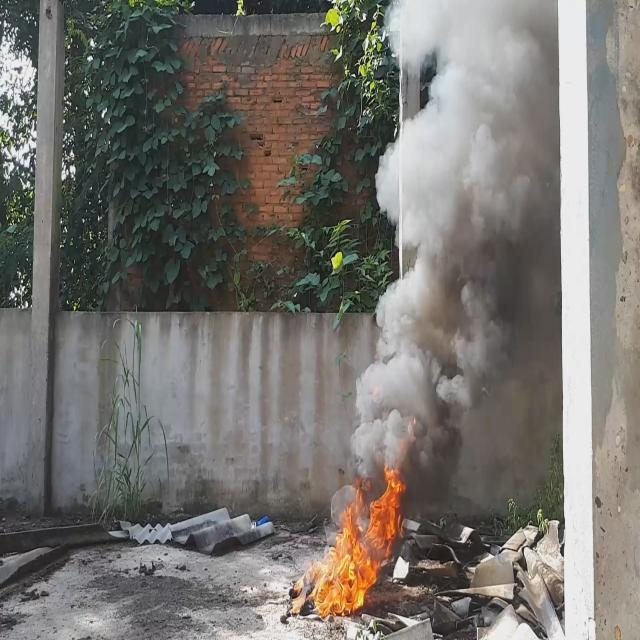Fire: (309, 461, 406, 620)
Smoke: (352, 0, 560, 510)
